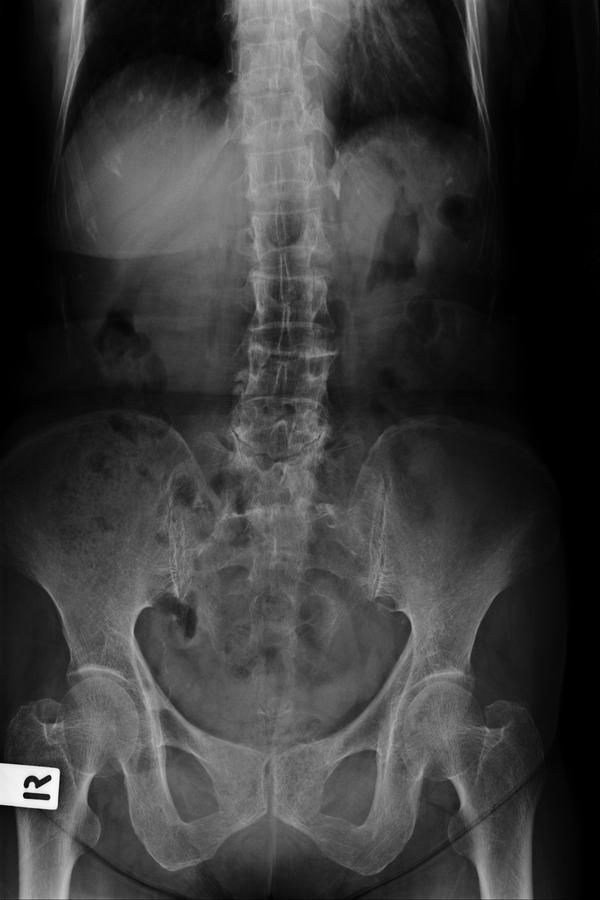lumbar scoliosis: (228, 174, 337, 494)
